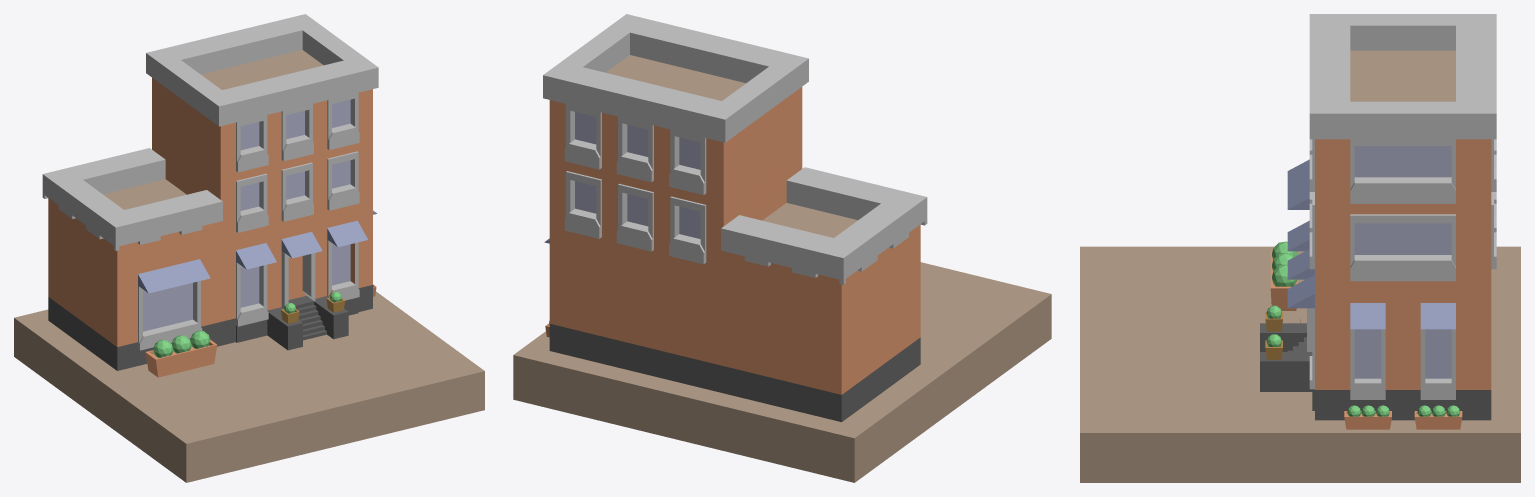
The model's file is building_apartment_orange.fbx.
3 views of the same model, side by side, from view 1: azimuth 30°, elevation 25°; view 2: azimuth 150°, elevation 25°; view 3: azimuth 270°, elevation 25° (orthographic). The views are drawn at different scales.
Parts seen in each view (by area): view 1: Cube.000; view 2: Cube.000; view 3: Cube.000.
Boxes of the visible parts, left/top/right/bottom form: Cube.000: left=14, top=14, right=484, bottom=482; Cube.000: left=513, top=14, right=1051, bottom=482; Cube.000: left=1080, top=14, right=1520, bottom=482.
Bounding box in the file's own units: 1600 × 1439 × 1600.
